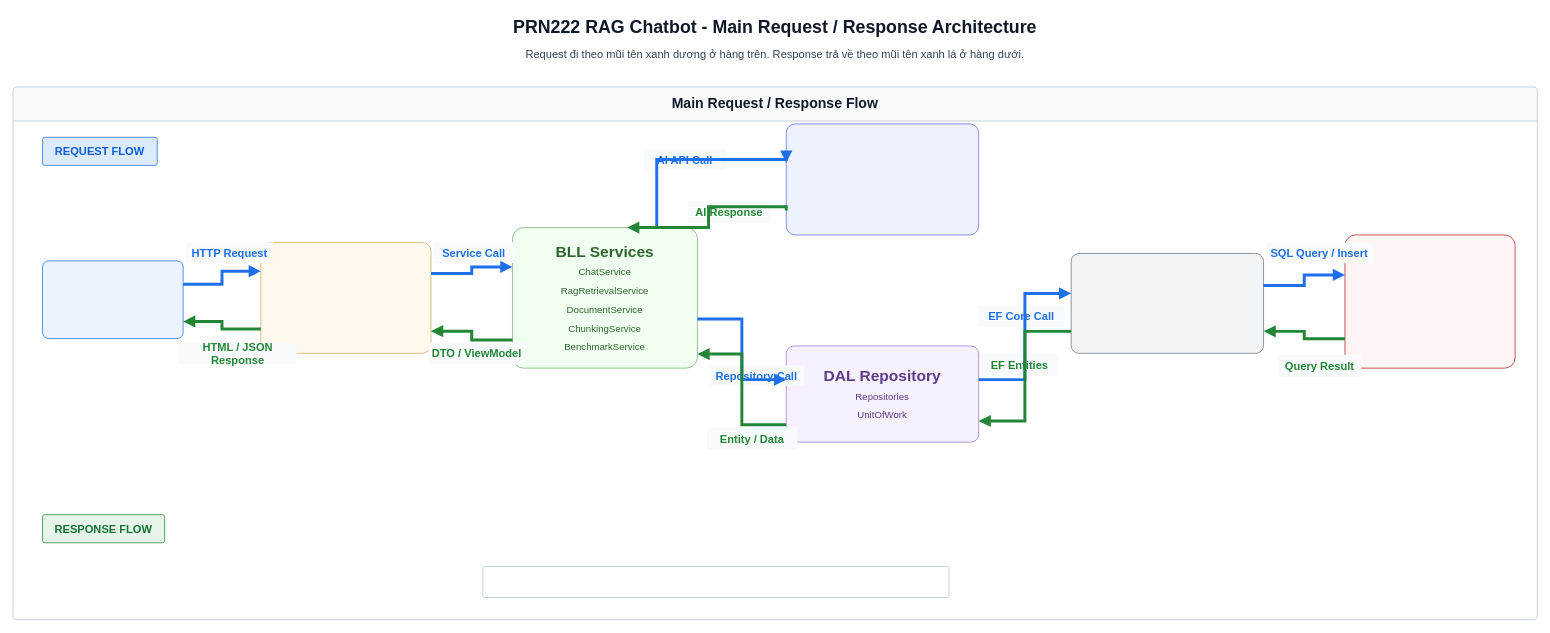
Image size: 1550x633. Some labels were removed from this diagram. The shapes that lost their labels are listed below. From the top down, each one's centre as x and y in pixels, then its label:
point 882,179: External AI APIs Gemini Embedding Gemini LLM Hugging Face Fine-tuned
point 112,299: Browser Student / Teacher
point 345,297: MVC Controller ChatController DocumentController EvaluationController
point 1167,303: EF Core DbContext ChatbotDbContext DbSet + Migrations
point 1429,301: SQL Server Documents Chunks Embeddings Chat Sessions Q&A / Benchmark
point 715,582: Blue = request/call/query | Green = response/result/data
